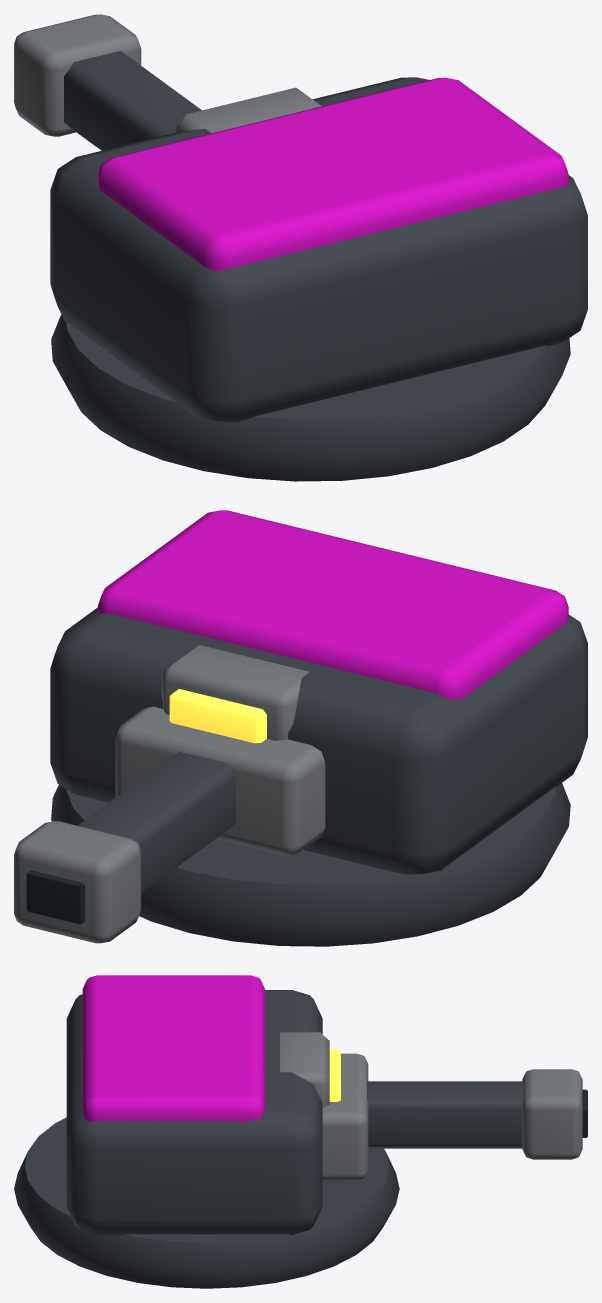
Rendered from bunker-cannon-turret.glb.
The picture shows the model from 3 angles, top to bottom: view 1: azimuth 30°, elevation 25°; view 2: azimuth 150°, elevation 25°; view 3: azimuth 270°, elevation 25°; orthographic projection. The views are drawn at different scales.
Visible parts, largest first — view 1: bunker-cannon-turret.001; view 2: bunker-cannon-turret.001; view 3: bunker-cannon-turret.001.
Boxes of the visible parts, left/top/right/bottom form: bunker-cannon-turret.001: left=14, top=14, right=587, bottom=481; bunker-cannon-turret.001: left=14, top=510, right=587, bottom=946; bunker-cannon-turret.001: left=14, top=975, right=587, bottom=1288.
Size of the model in its own units: 0.76 by 0.3865 by 1.13.
